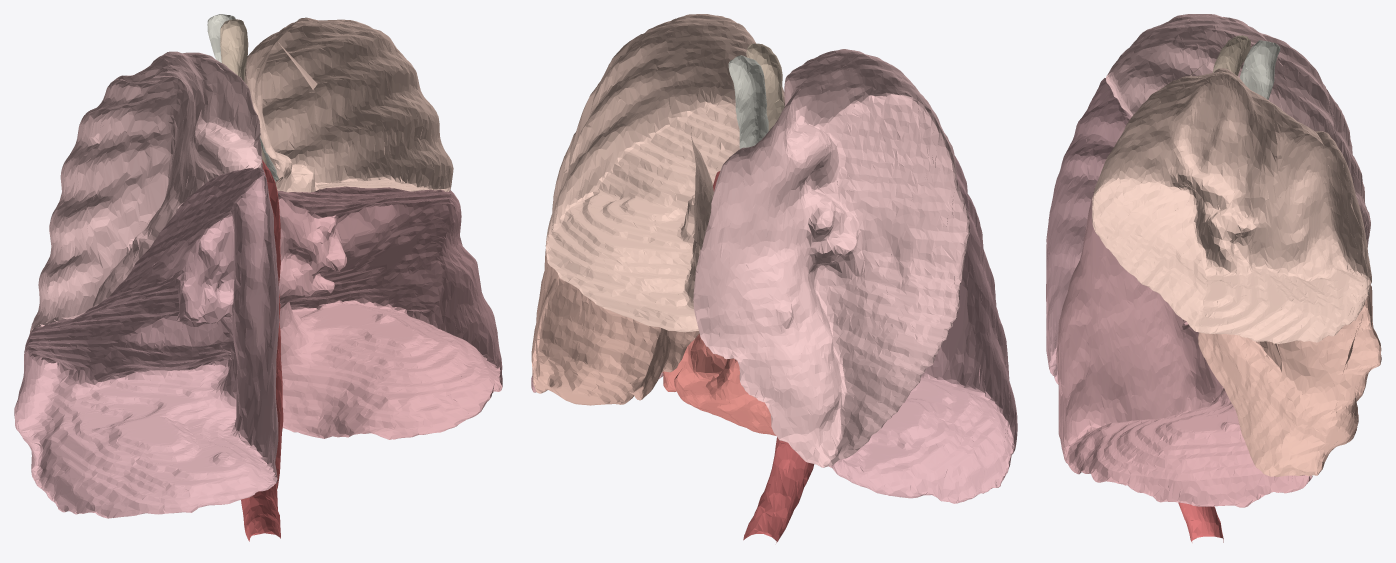
File: torax-completo.glb
The picture shows the model from 3 angles, left to right: view 1: azimuth 30°, elevation 25°; view 2: azimuth 150°, elevation 25°; view 3: azimuth 270°, elevation 25°; orthographic projection. The views are drawn at different scales.
Parts seen in each view (by area): view 1: lung_lower_lobe_left, lung_lower_lobe_right, lung_upper_lobe_left, lung_upper_lobe_right, aorta, esophagus, trachea; view 2: lung_upper_lobe_left, lung_upper_lobe_right, lung_lower_lobe_left, lung_middle_lobe_right, heart, aorta, trachea, esophagus; view 3: lung_upper_lobe_right, lung_lower_lobe_right, lung_middle_lobe_right, lung_upper_lobe_left, lung_lower_lobe_left, trachea, aorta, esophagus.
Part boxes in pixels (<box>): lung_lower_lobe_left: <box>14,167,279,518</box>; lung_lower_lobe_right: <box>277,186,502,439</box>; lung_upper_lobe_left: <box>30,51,262,332</box>; lung_upper_lobe_right: <box>245,17,453,192</box>; aorta: <box>241,159,283,541</box>; esophagus: <box>220,19,266,165</box>; trachea: <box>207,14,278,181</box>; lung_upper_lobe_left: <box>693,49,970,467</box>; lung_upper_lobe_right: <box>545,14,784,332</box>; lung_lower_lobe_left: <box>829,156,1017,503</box>; lung_middle_lobe_right: <box>531,249,699,405</box>; heart: <box>662,334,775,435</box>; aorta: <box>713,171,814,542</box>; trachea: <box>728,55,768,148</box>; esophagus: <box>746,43,784,130</box>; lung_upper_lobe_right: <box>1092,64,1371,343</box>; lung_lower_lobe_right: <box>1056,194,1312,507</box>; lung_middle_lobe_right: <box>1198,285,1381,476</box>; lung_upper_lobe_left: <box>1106,14,1370,246</box>; lung_lower_lobe_left: <box>1046,78,1131,384</box>; trachea: <box>1240,40,1280,99</box>; aorta: <box>1178,502,1223,542</box>; esophagus: <box>1213,35,1250,75</box>.
Bounding box in the file's own units: 0.2997 × 0.338 × 0.2065.
